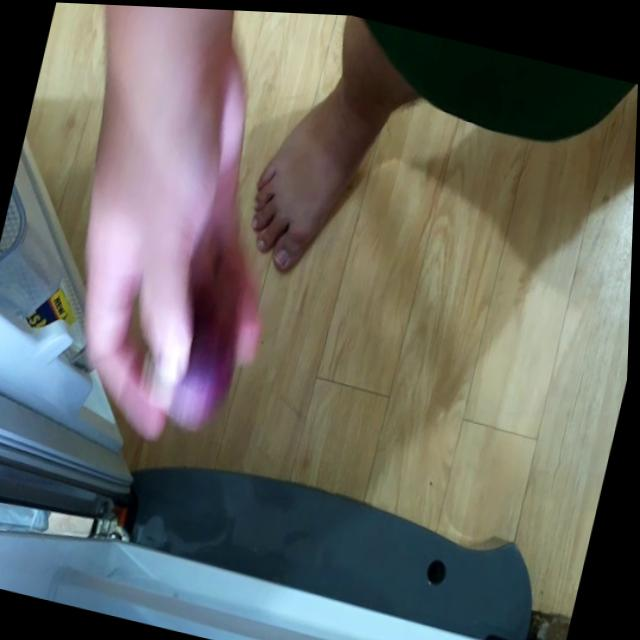onion: (130, 291, 248, 428)
